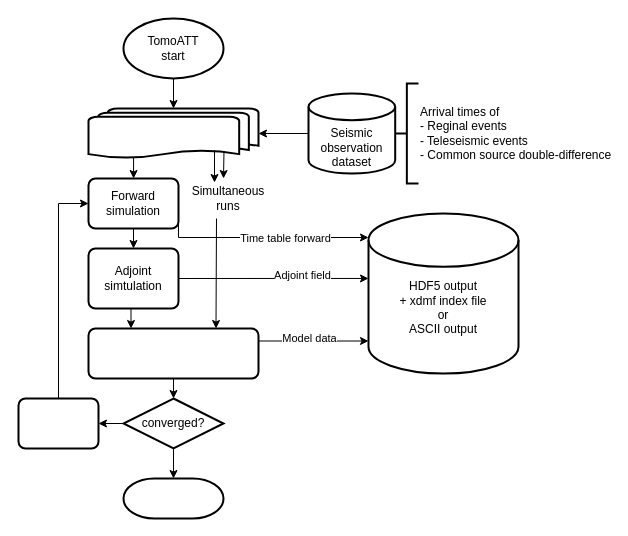
This 628x536 diagram has some shape labels left out. The shapes that lost their labels are listed below. From the top down, each one's centre as x and y in pixels, then its label:
At (173,133): "Sources/Receivers".
At (173,353): "Inversion / Optimization".
At (58,423): "Update model".
At (173,498): "Finish".
